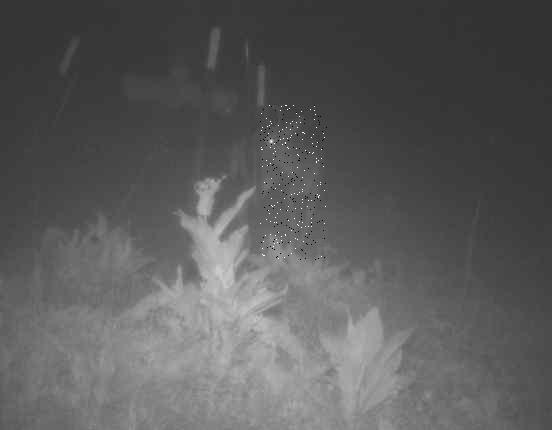Deer: (260, 106, 327, 261)
